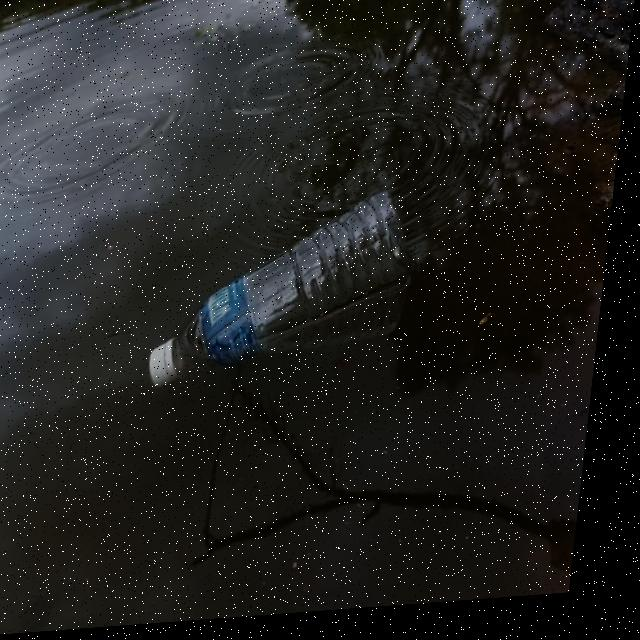waterbottle: (133, 181, 425, 388)
